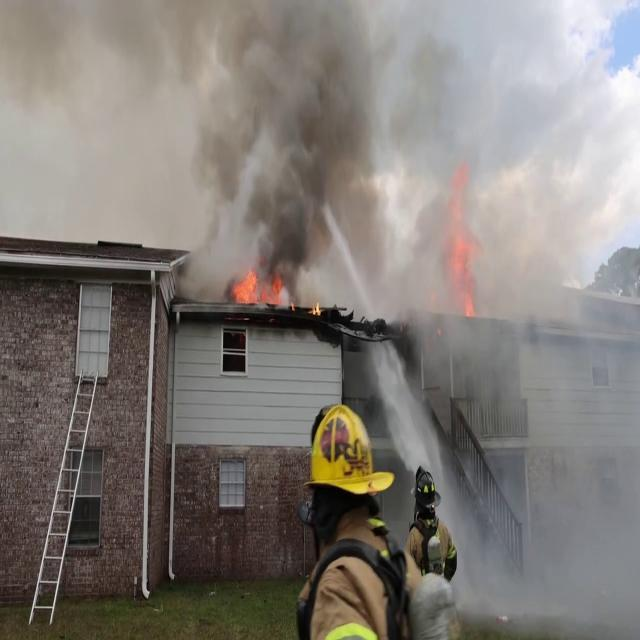Fire: (228, 264, 292, 315)
Smoke: (184, 0, 393, 292), (0, 1, 187, 230)
